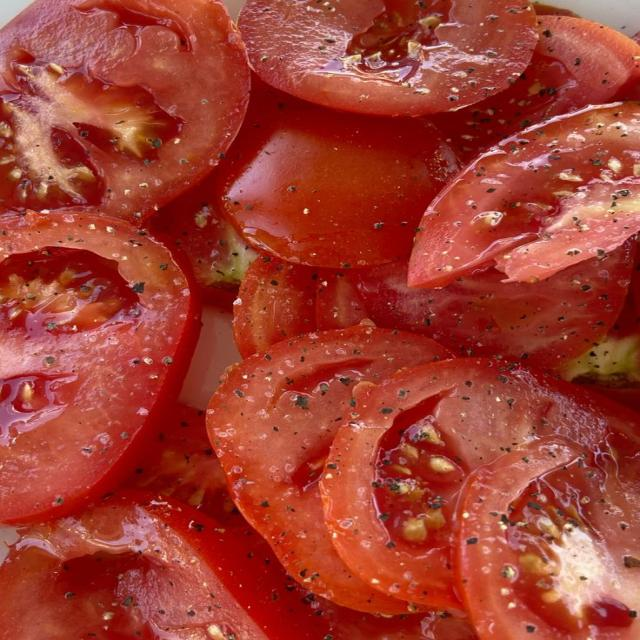sliced_tomato: (320, 359, 639, 606), (0, 490, 475, 639), (207, 327, 450, 613), (0, 213, 199, 521), (0, 0, 249, 220), (235, 241, 634, 368), (216, 83, 458, 268), (409, 102, 639, 287), (0, 490, 269, 639), (456, 438, 639, 639), (352, 241, 635, 368), (240, 0, 537, 116), (434, 16, 639, 160), (127, 404, 242, 527), (234, 254, 367, 357), (148, 175, 256, 297), (561, 267, 639, 411), (234, 254, 318, 357), (316, 270, 369, 330), (533, 0, 579, 17)
